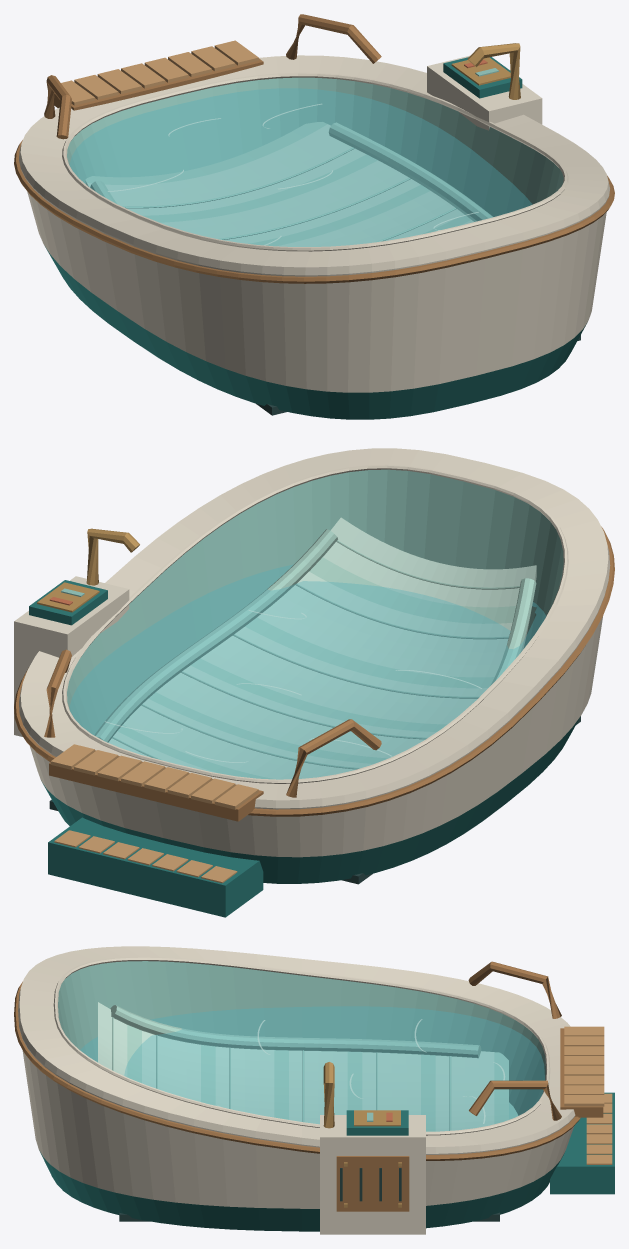
File: AST-RST-AQ-001.glb
3 views of the same model, one above another, from view 1: azimuth 30°, elevation 25°; view 2: azimuth 150°, elevation 25°; view 3: azimuth 270°, elevation 25° (orthographic). The views are drawn at different scales.
Parts seen in each view (by area): view 1: Hollow continuous basin shell with interior floor, WaterSurface_VisualOnly, Contoured broad immersed rest support, Inner pale rim bead, Continuous ash rim outer reveal, Right service dock body, R waterborne lateral cradle bolster, Low front transfer nose, R short transfer assist rail, Return supply spout proposed, L short transfer assist rail, Service control mounting pad (+9 smaller); view 2: Hollow continuous basin shell with interior floor, WaterSurface_VisualOnly, Contoured broad immersed rest support, Front grounded transfer foot ledge, Inner pale rim bead, R waterborne lateral cradle bolster, Right service dock body, Continuous ash rim outer reveal, Low front transfer nose, L waterborne lateral cradle bolster, L short transfer assist rail, Service control mounting pad (+12 smaller); view 3: Hollow continuous basin shell with interior floor, WaterSurface_VisualOnly, Contoured broad immersed rest support, Right service dock body, L waterborne lateral cradle bolster, Inner pale rim bead, Right removable service panel, Continuous ash rim outer reveal, Front grounded transfer foot ledge, L short transfer assist rail, R short transfer assist rail, Service control mounting pad (+11 smaller).
Boxes of the visible parts, <box> form: Hollow continuous basin shell with interior floor: <box>19,55,609,419</box>; WaterSurface_VisualOnly: <box>70,88,532,246</box>; Contoured broad immersed rest support: <box>85,122,473,246</box>; Inner pale rim bead: <box>62,72,568,251</box>; Continuous ash rim outer reveal: <box>14,140,614,283</box>; Right service dock body: <box>427,55,542,130</box>; R waterborne lateral cradle bolster: <box>329,122,492,221</box>; Low front transfer nose: <box>54,58,263,110</box>; R short transfer assist rail: <box>286,14,381,63</box>; Return supply spout proposed: <box>467,43,520,99</box>; L short transfer assist rail: <box>44,75,71,139</box>; Service control mounting pad: <box>443,57,522,98</box>; Hollow continuous basin shell with interior floor: <box>19,448,610,883</box>; WaterSurface_VisualOnly: <box>70,564,545,779</box>; Contoured broad immersed rest support: <box>108,517,536,779</box>; Front grounded transfer foot ledge: <box>48,817,263,917</box>; Inner pale rim bead: <box>62,464,568,783</box>; R waterborne lateral cradle bolster: <box>94,529,337,742</box>; Right service dock body: <box>14,576,129,736</box>; Continuous ash rim outer reveal: <box>14,526,614,816</box>; Low front transfer nose: <box>49,750,263,821</box>; L waterborne lateral cradle bolster: <box>490,578,536,685</box>; L short transfer assist rail: <box>286,719,381,797</box>; Service control mounting pad: <box>29,580,107,625</box>; Hollow continuous basin shell with interior floor: <box>18,946,575,1231</box>; WaterSurface_VisualOnly: <box>80,1006,544,1131</box>; Contoured broad immersed rest support: <box>98,1002,508,1131</box>; Right service dock body: <box>320,1115,425,1234</box>; L waterborne lateral cradle bolster: <box>110,1005,481,1058</box>; Inner pale rim bead: <box>53,957,550,1135</box>; Right removable service panel: <box>336,1156,409,1211</box>; Continuous ash rim outer reveal: <box>14,981,580,1160</box>; Front grounded transfer foot ledge: <box>550,1092,614,1194</box>; L short transfer assist rail: <box>468,961,561,1018</box>; R short transfer assist rail: <box>469,1080,561,1120</box>; Service control mounting pad: <box>346,1110,408,1135</box>.
Size of the model in its own units: 3 by 1.24 by 3.98.
